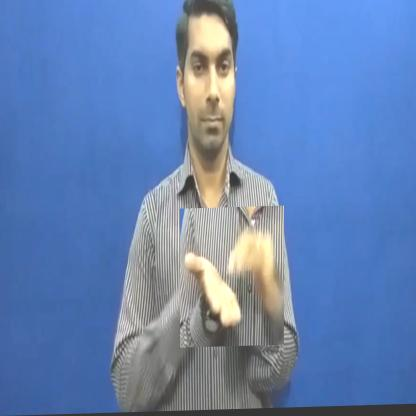ExcuseMe: (180, 207, 284, 349)
